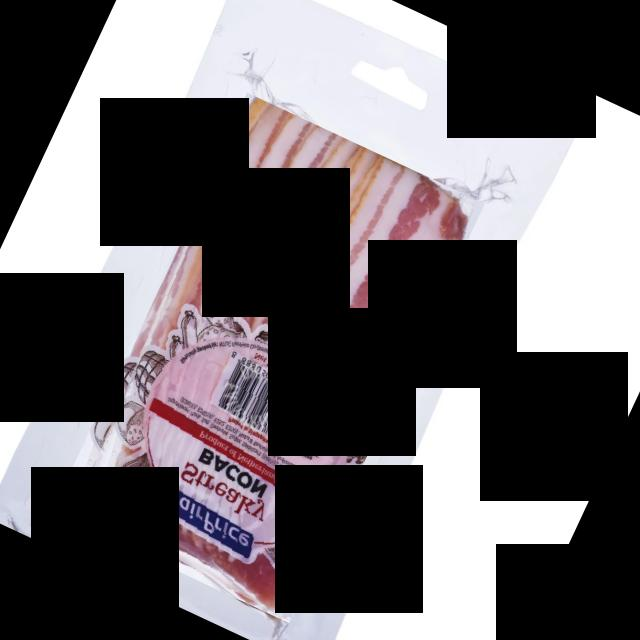bacon: (52, 92, 484, 624)
